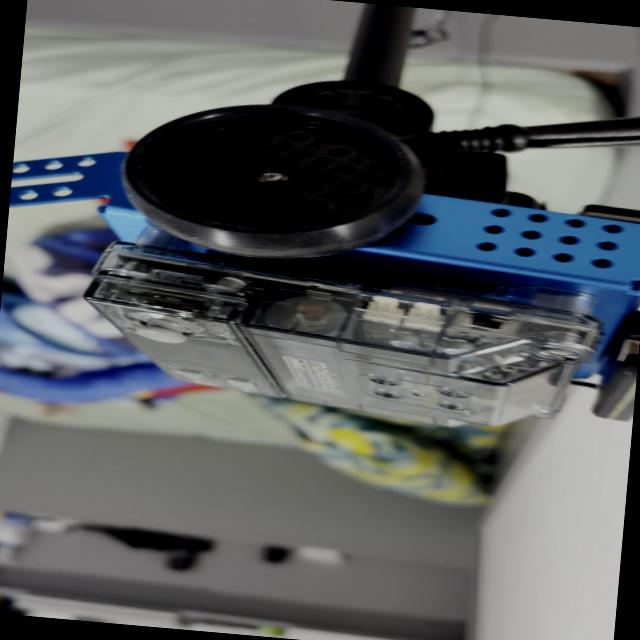mbot-detection: (0, 71, 640, 450)
